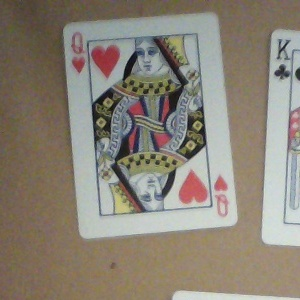card: (61, 13, 239, 239)
